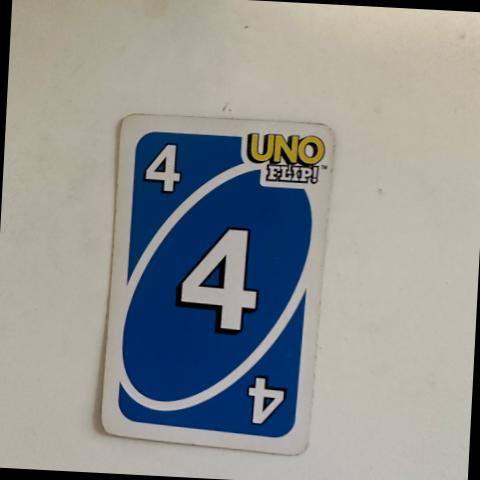lblue-4: (128, 125, 200, 214)
